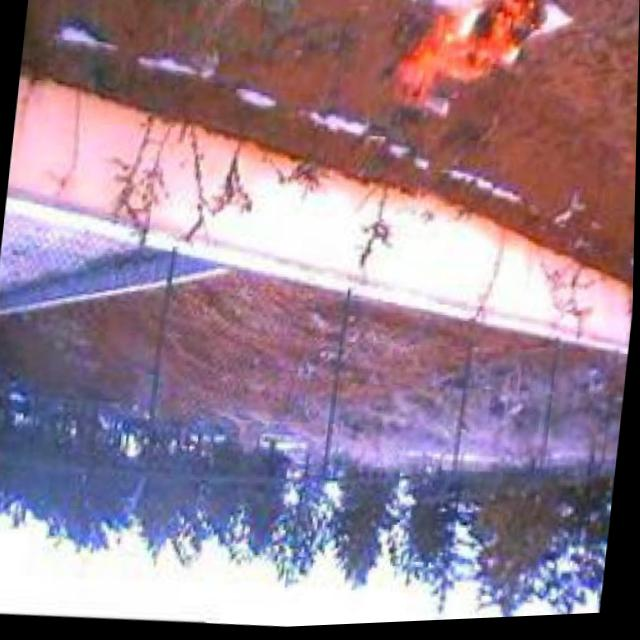Fire: (389, 0, 550, 117)
